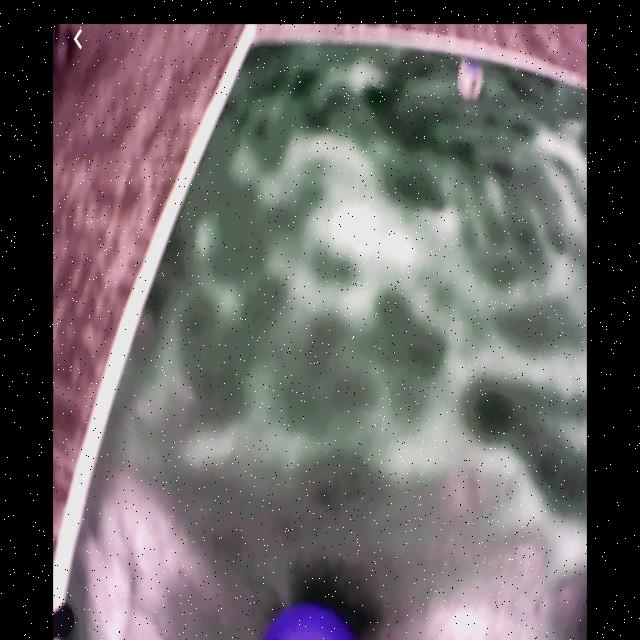ball: (264, 605, 354, 640)
